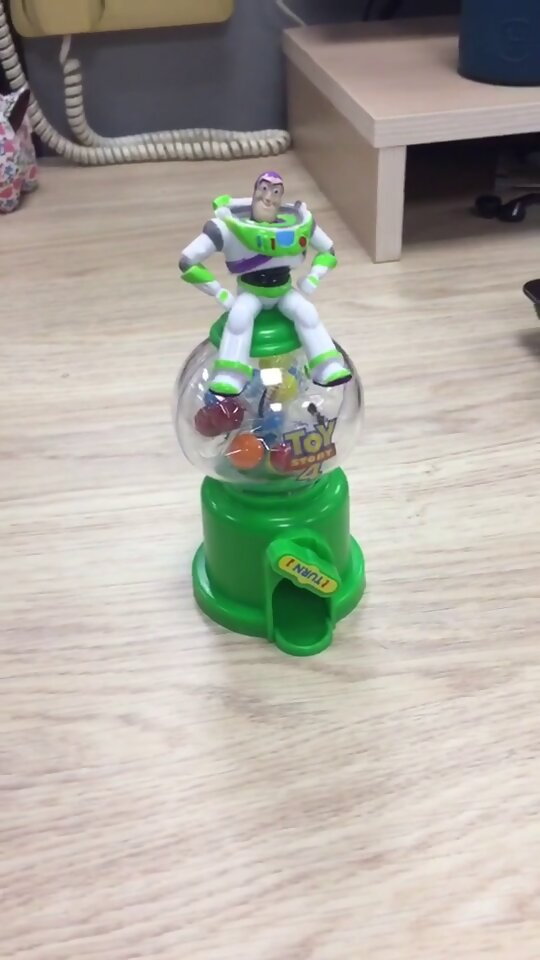buzz: (169, 169, 370, 667)
